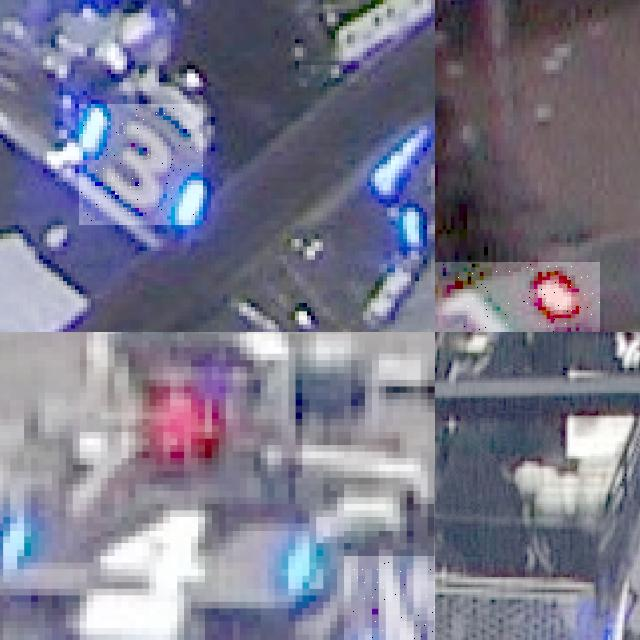B3: (79, 104, 203, 225)
B4: (0, 491, 323, 602), (344, 556, 434, 640)
R1: (435, 262, 600, 332)
